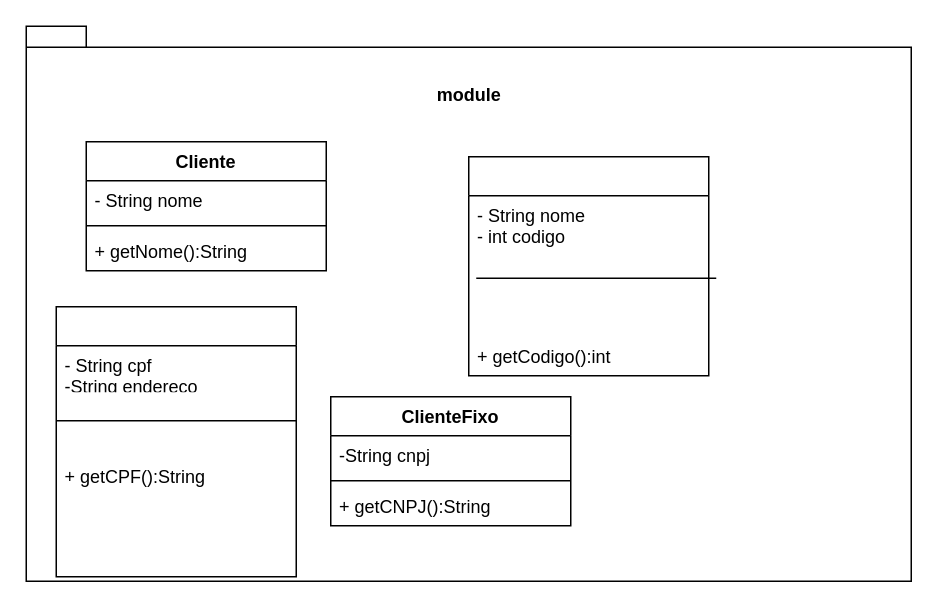
Image size: 938x608. Some labels were removed from this diagram. The shapes that lost their labels are listed below. From the top down, each one's box as (x1, y1, x2, y2) in pixels, then its label:
(467, 155, 709, 376): Peca
(55, 305, 296, 577): ClienteAvulso
